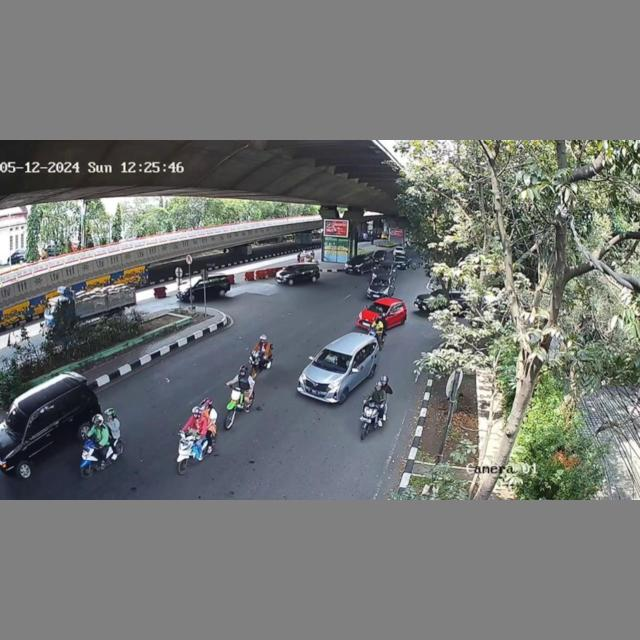windshield: (313, 348, 352, 372), (365, 300, 391, 314)
